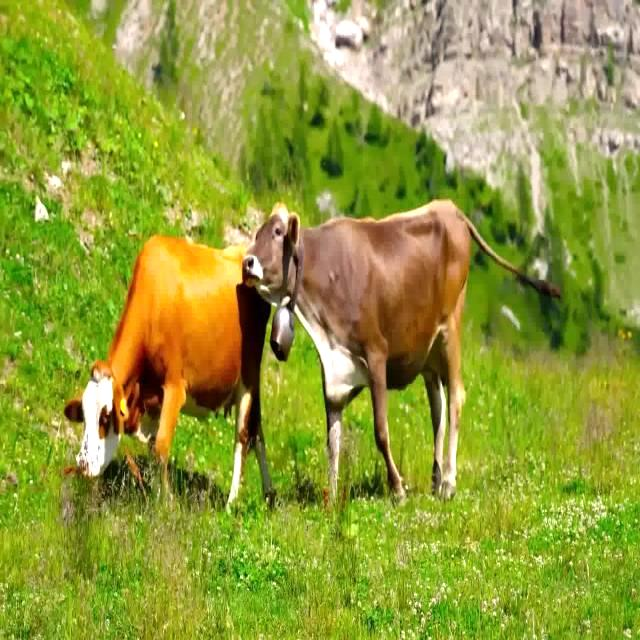COW: (244, 201, 554, 499), (65, 236, 272, 503)
